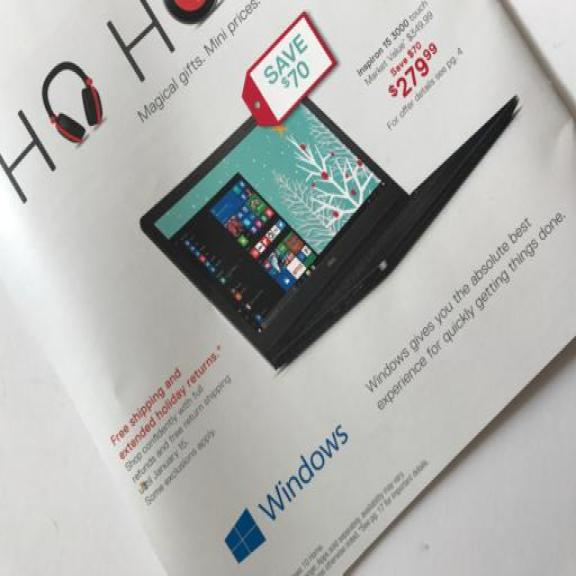Kertas: (1, 0, 576, 576)
